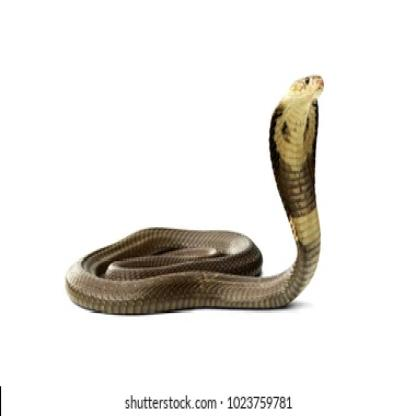snakes: (69, 63, 338, 338)
